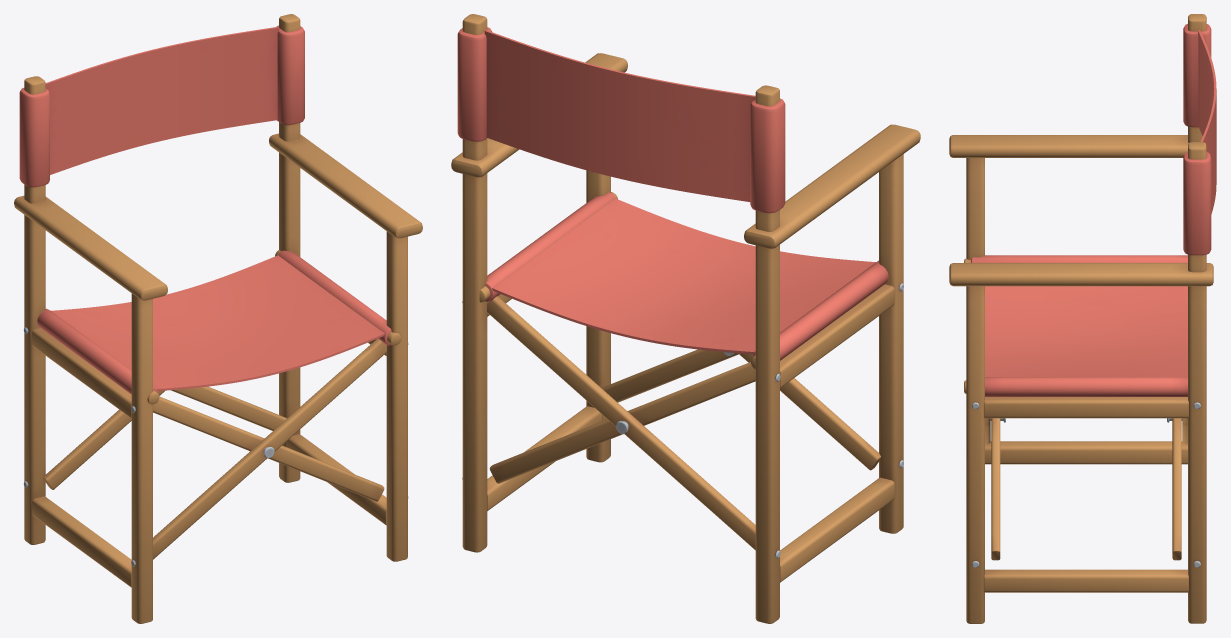
Rendered from director-chair.glb.
The picture shows the model from 3 angles, left to right: view 1: azimuth 30°, elevation 25°; view 2: azimuth 150°, elevation 25°; view 3: azimuth 270°, elevation 25°; orthographic projection. The views are drawn at different scales.
Visible parts, largest first — view 1: director-chair_body; view 2: director-chair_body; view 3: director-chair_body.
Boxes of the visible parts, left/top/right/bottom form: director-chair_body: left=14, top=14, right=422, bottom=623; director-chair_body: left=451, top=14, right=920, bottom=623; director-chair_body: left=949, top=14, right=1216, bottom=623.
Bounding box in the file's own units: 0.578 × 0.9 × 0.458.
1 material, 1 textured.
